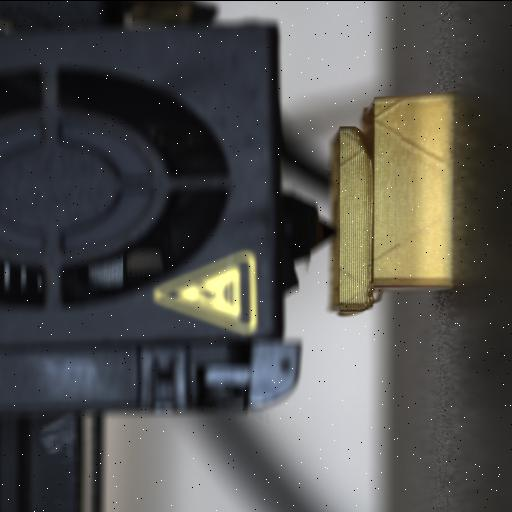layer_shift: (358, 91, 382, 313)
